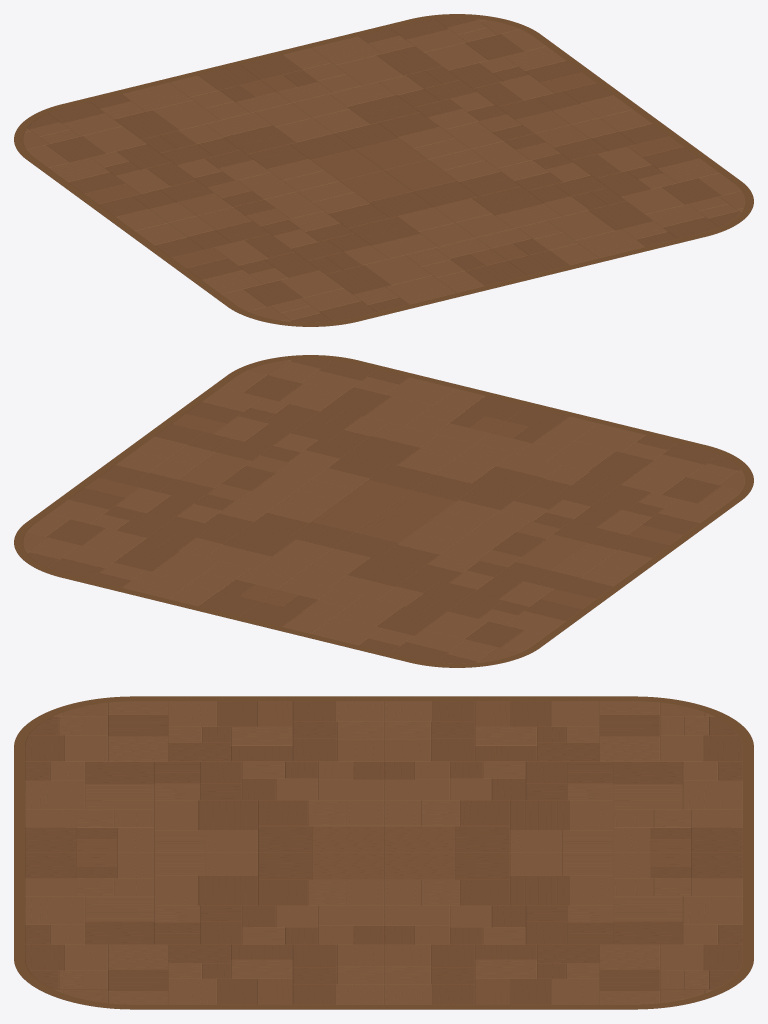
Rendered from Wood_Floor_Variant_04.glb.
3 renders of one model, top to bottom at view 1: azimuth 30°, elevation 25°; view 2: azimuth 150°, elevation 25°; view 3: azimuth 270°, elevation 25°, orthographic. The views are drawn at different scales.
Parts seen in each view (by area): view 1: Wood_Floor_Variant_04; view 2: Wood_Floor_Variant_04; view 3: Wood_Floor_Variant_04.
Boxes of the visible parts, box(x1,y1,x2,y2) form: Wood_Floor_Variant_04: box(14, 14, 753, 326); Wood_Floor_Variant_04: box(14, 355, 753, 667); Wood_Floor_Variant_04: box(14, 696, 753, 1009).
Size of the model in its own units: 18.95 by 0.0085 by 18.95.
